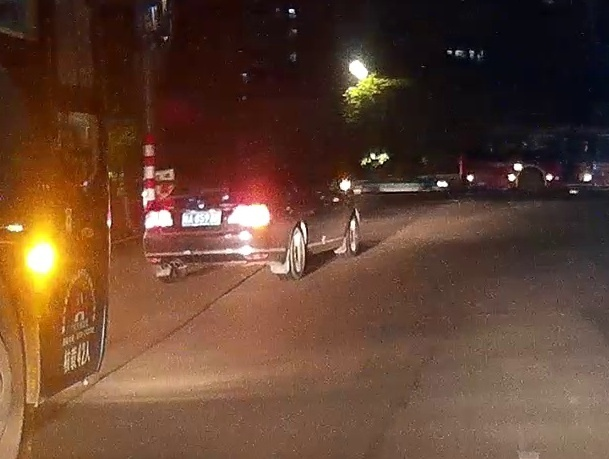L_light: (144, 209, 173, 228)
R_light: (232, 203, 271, 227)
T_light: (215, 167, 228, 170)
night-right: (144, 158, 296, 283)
